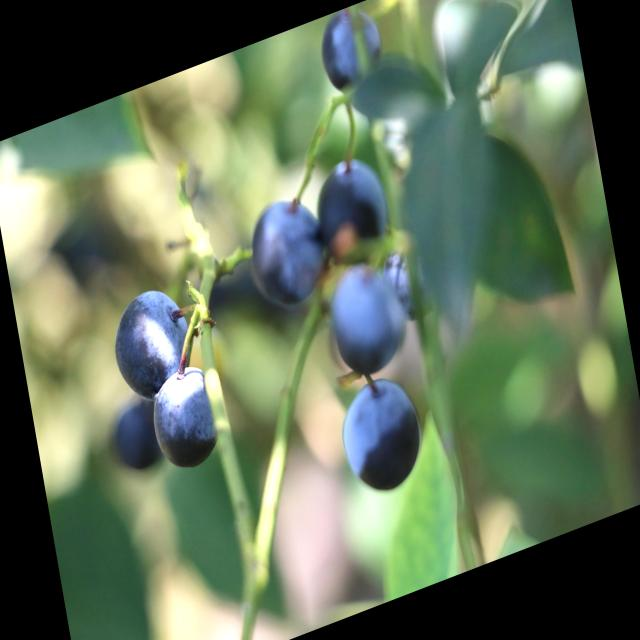blueberry: (329, 360, 431, 510), (312, 243, 411, 389), (241, 177, 332, 320), (106, 268, 199, 407), (308, 145, 396, 272), (145, 354, 225, 480), (376, 221, 452, 339), (311, 0, 387, 108), (109, 382, 164, 478)
